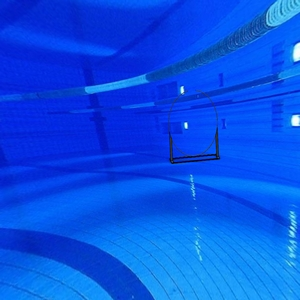circle: (166, 88, 224, 165)
